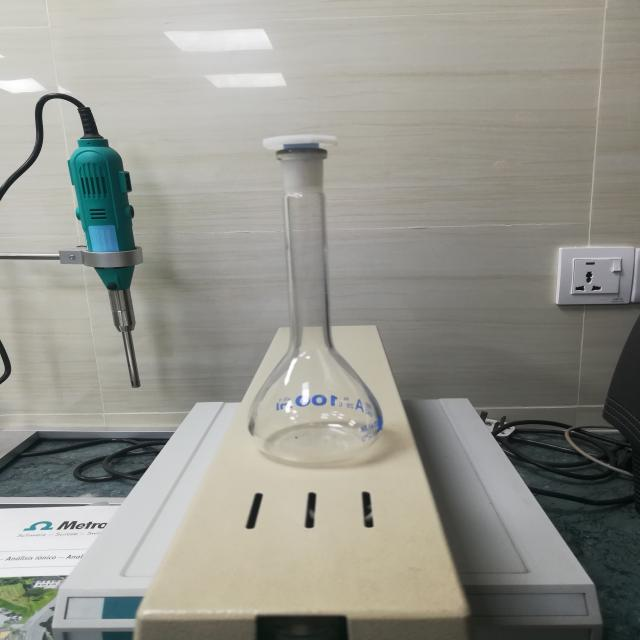Volumetric_Flask: (204, 89, 424, 515)
